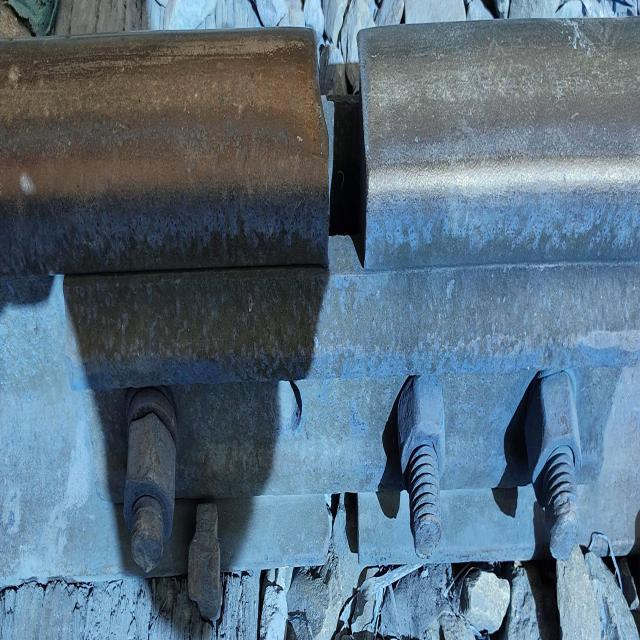Defective Joint: (63, 264, 637, 588)
Good Fasteners: (188, 503, 222, 621)
